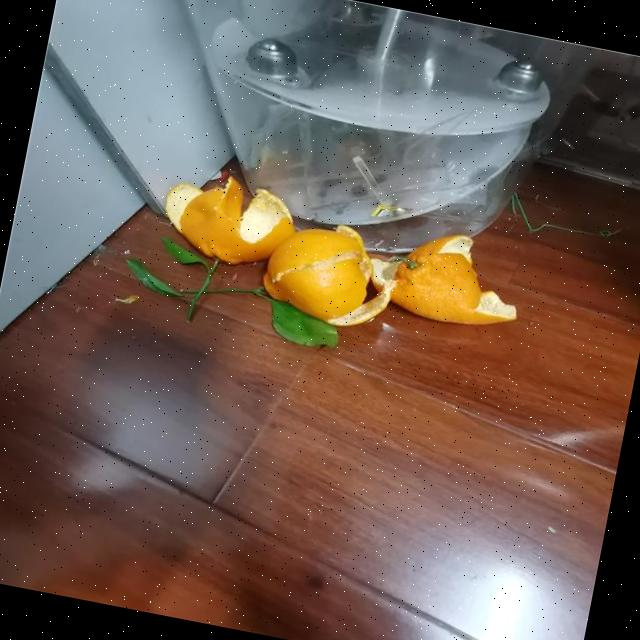orange-peel: (376, 219, 530, 337)
